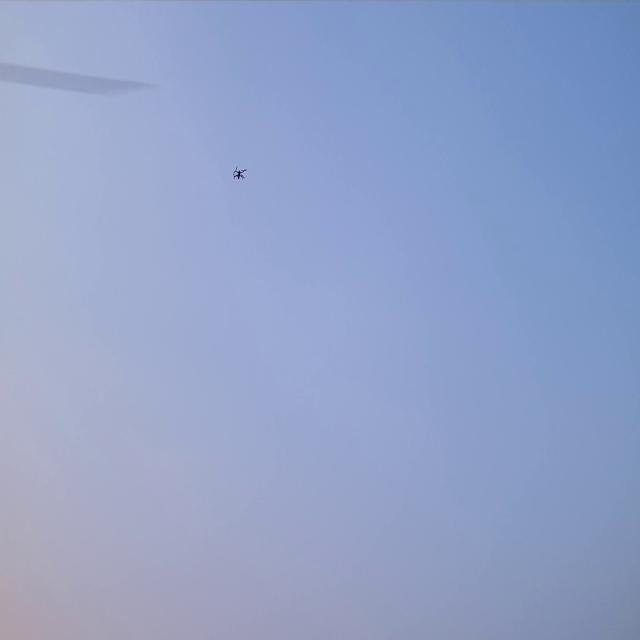UAV: (232, 164, 248, 181)
